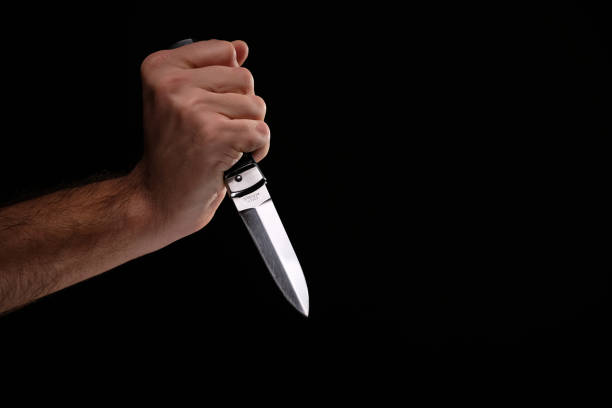knife: (166, 34, 314, 320)
